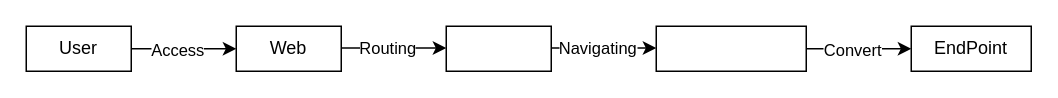
This 1058x98 diagram has some shape labels left out. The box of each missing label's shape, as (x1, y1, x2, y2) in pixels:
404 page: (445, 25, 551, 71)
Main page (with paramater): (655, 25, 806, 71)
